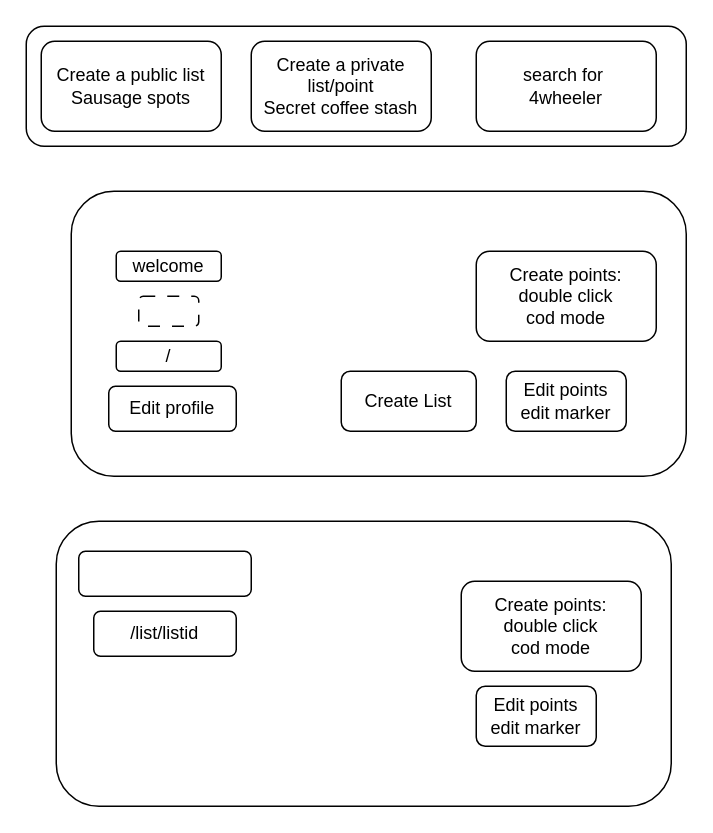
This 713x833 diagram has some shape labels left out. The shapes that lost their labels are listed below. From the top down, each one's box as (x1, y1, x2, y2) in pixels, then its label:
(137, 295, 199, 326): auth
(77, 550, 251, 596): sharing, search
